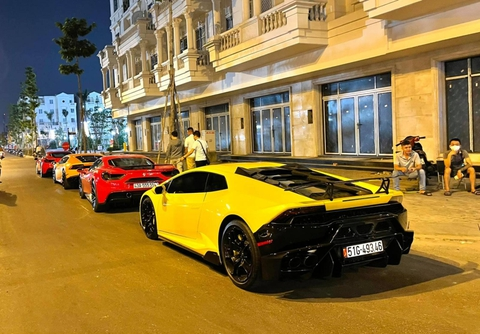number_plate: (329, 238, 400, 268)
